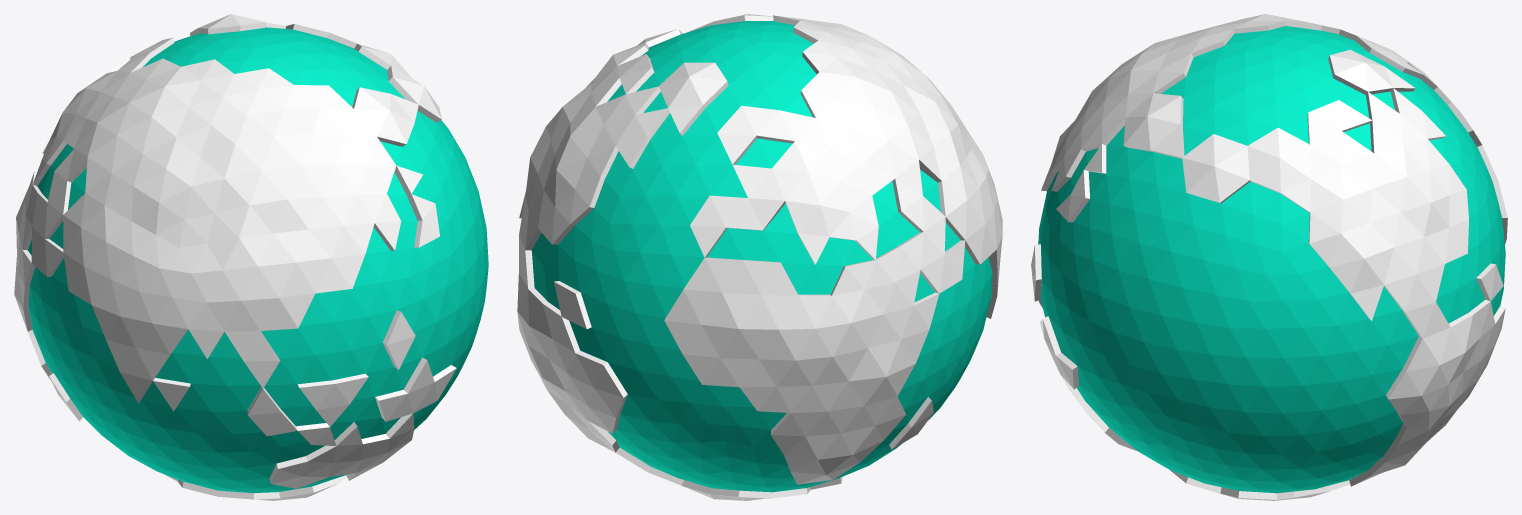
File: earth.gltf
The picture shows the model from 3 angles, left to right: view 1: azimuth 30°, elevation 25°; view 2: azimuth 150°, elevation 25°; view 3: azimuth 270°, elevation 25°; orthographic projection.
Visible parts, largest first — view 1: URF-Height; view 2: URF-Height; view 3: URF-Height.
Part boxes in pixels (x1,y1,x2,y2): URF-Height: (14,14,488,500); URF-Height: (517,14,1002,500); URF-Height: (1031,14,1507,500).
Bounding box in the file's own units: 201 × 206 × 203.
